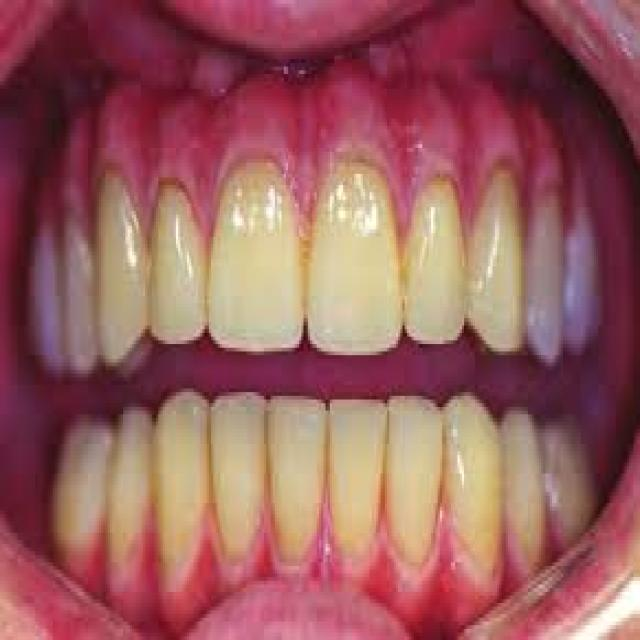tooth: (209, 163, 303, 351), (312, 174, 400, 366), (468, 144, 532, 363), (442, 381, 506, 588), (402, 181, 470, 355), (266, 381, 328, 570), (387, 373, 440, 584), (97, 144, 147, 366), (154, 388, 211, 581), (211, 370, 268, 551), (328, 385, 385, 562), (148, 182, 205, 341), (506, 396, 554, 566), (108, 388, 156, 558), (24, 218, 73, 374), (51, 407, 104, 551), (543, 407, 598, 544), (524, 196, 566, 366), (64, 211, 103, 366), (565, 222, 605, 348)
